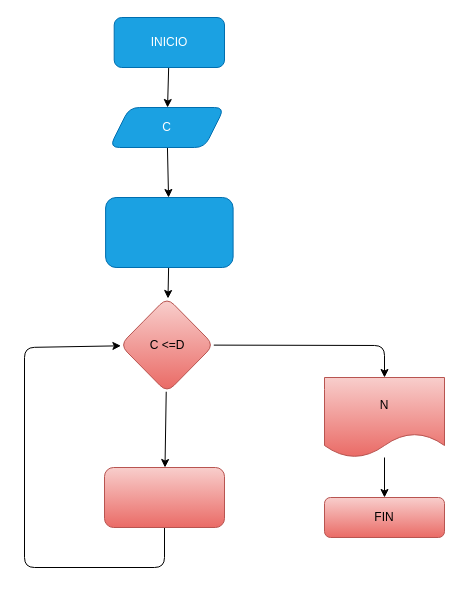
Image size: 462x593. Some labels were removed from this diagram. Each missing label, with the centre of its shape:
C = 1.05*C N = N+1: point 164,497
N=0 D=2*C: point 169,232
